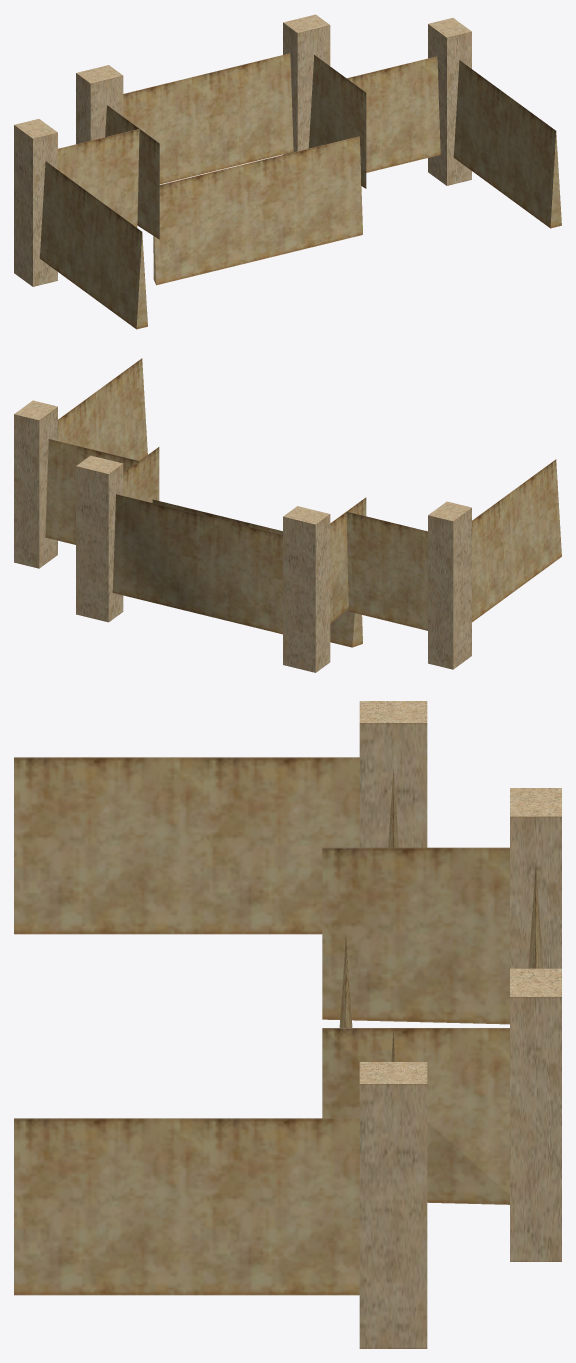
Rendered from poi_tato_corral_half_32x32_s03_l1.fbx.
3 renders of one model, top to bottom at view 1: azimuth 30°, elevation 25°; view 2: azimuth 150°, elevation 25°; view 3: azimuth 270°, elevation 25°, orthographic. The views are drawn at different scales.
Parts seen in each view (by area): view 1: mesh_node; view 2: mesh_node; view 3: mesh_node.
Part boxes in pixels (left/top/right/bottom): mesh_node: left=14, top=14, right=561, bottom=329; mesh_node: left=14, top=358, right=561, bottom=672; mesh_node: left=14, top=701, right=561, bottom=1348.
Size of the model in its own units: 19.1 by 7.05 by 11.55.
